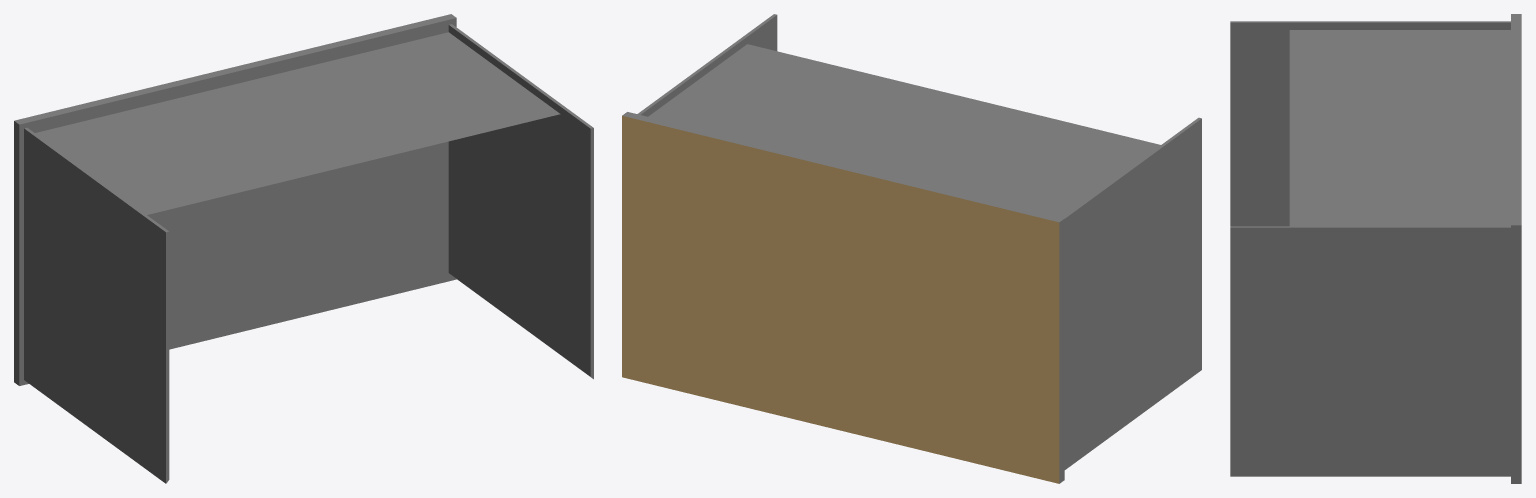
3 views of the same model, side by side, from view 1: azimuth 30°, elevation 25°; view 2: azimuth 150°, elevation 25°; view 3: azimuth 270°, elevation 25° (orthographic).
Visible parts, largest first — view 1: Cube; view 2: Cube; view 3: Cube.
Boxes of the visible parts, box(x1,y1,x2,y2) form: Cube: box(14, 14, 593, 483); Cube: box(622, 14, 1201, 483); Cube: box(1230, 14, 1521, 483).
Size of the model in its own units: 140 by 80 by 81.68.
